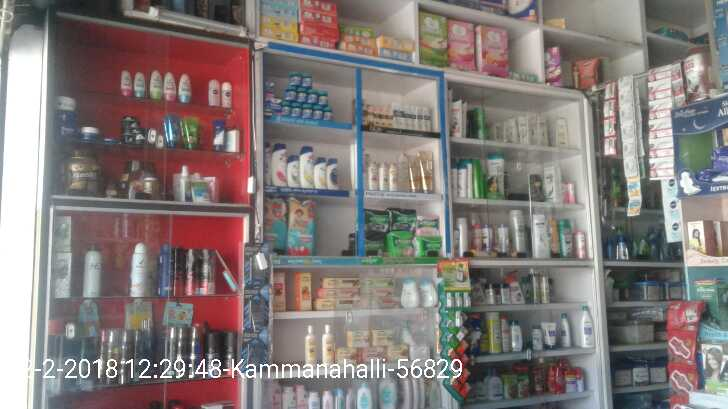beauty: (393, 104, 435, 132), (271, 143, 288, 187), (421, 147, 436, 195), (300, 146, 314, 188), (409, 151, 422, 193), (314, 154, 327, 189), (326, 158, 340, 190), (286, 154, 299, 188), (366, 159, 380, 190), (378, 159, 389, 192), (388, 163, 399, 192)
pharmacy: (288, 196, 319, 254), (261, 196, 288, 252), (348, 233, 387, 257), (359, 207, 388, 232), (413, 233, 443, 257), (387, 231, 415, 256), (389, 207, 417, 230), (414, 216, 440, 235), (288, 69, 302, 85), (300, 103, 311, 121), (282, 87, 297, 100), (281, 102, 294, 117), (300, 72, 311, 89), (311, 107, 322, 121), (319, 90, 329, 105), (307, 90, 316, 106), (296, 90, 306, 104), (292, 103, 301, 118), (322, 107, 333, 119)
